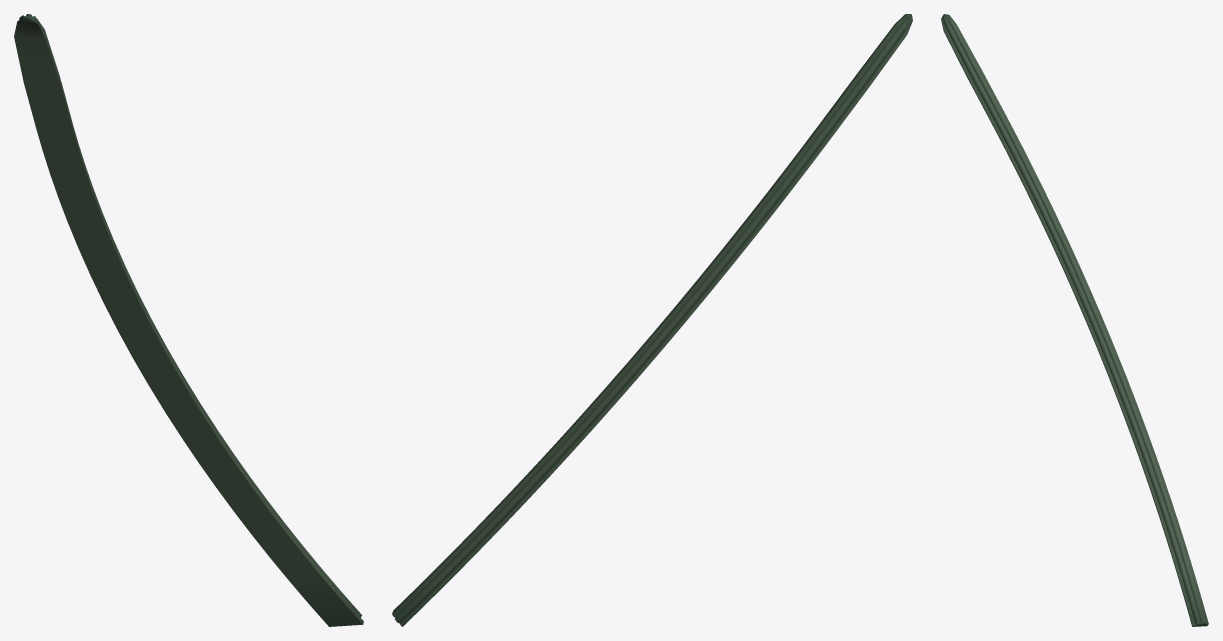
Rendered from trees-plants-saplings-green-stem_v1.glb.
3 views of the same model, side by side, from view 1: azimuth 30°, elevation 25°; view 2: azimuth 150°, elevation 25°; view 3: azimuth 270°, elevation 25° (orthographic). The views are drawn at different scales.
Visible parts, largest first — view 1: Green Stem_v1; view 2: Green Stem_v1; view 3: Green Stem_v1.
Part boxes in pixels (left/top/right/bottom): Green Stem_v1: left=14, top=14, right=363, bottom=626; Green Stem_v1: left=392, top=14, right=912, bottom=626; Green Stem_v1: left=941, top=14, right=1208, bottom=626.
Bounding box in the file's own units: 0.3303 × 0.5 × 0.2565.
